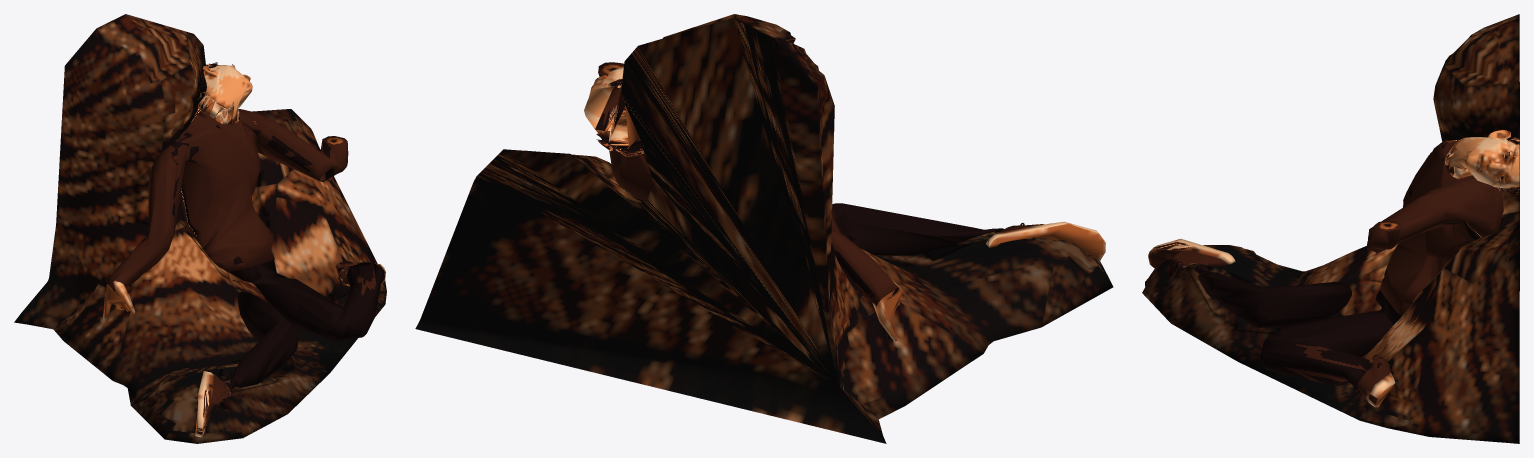
The model's file is RootedManNoHand.fbx.
3 views of the same model, side by side, from view 1: azimuth 30°, elevation 25°; view 2: azimuth 150°, elevation 25°; view 3: azimuth 270°, elevation 25° (orthographic). The views are drawn at different scales.
Visible parts, largest first — view 1: Ch31_aBody; view 2: Ch31_aBody; view 3: Ch31_aBody.
Boxes of the visible parts, left/top/right/bottom form: Ch31_aBody: left=14, top=14, right=386, bottom=443; Ch31_aBody: left=415, top=14, right=1113, bottom=443; Ch31_aBody: left=1142, top=14, right=1519, bottom=443.
Size of the model in its own units: 4258 by 3285 by 3725.
2 materials, 2 textured.
